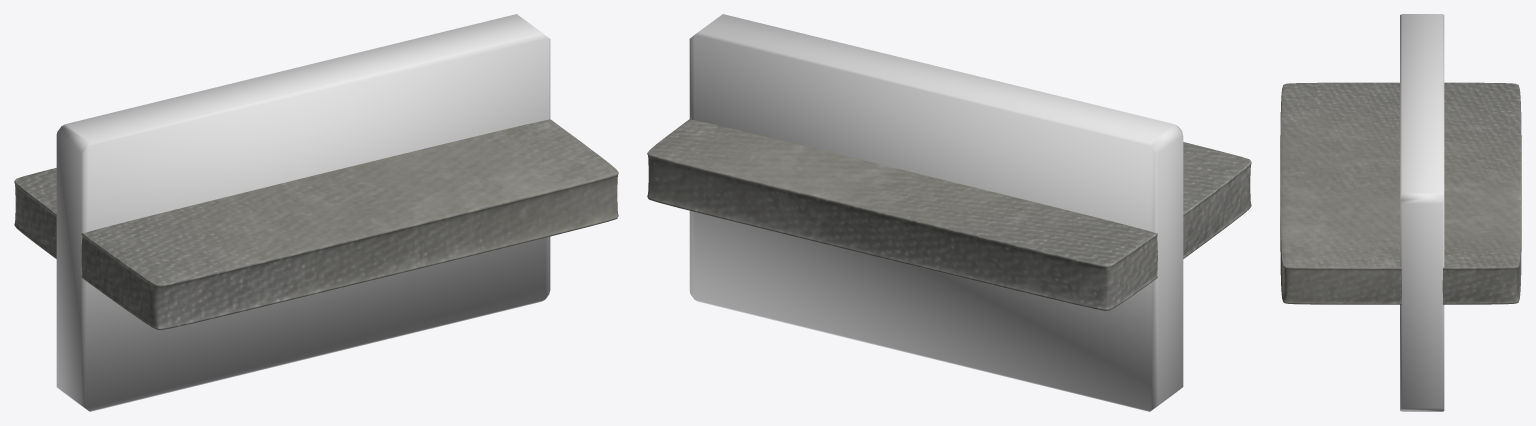
Rendered from SM_Mattress.fbx.
The picture shows the model from 3 angles, left to right: view 1: azimuth 30°, elevation 25°; view 2: azimuth 150°, elevation 25°; view 3: azimuth 270°, elevation 25°; orthographic projection. The views are drawn at different scales.
Visible parts, largest first — view 1: SM_Mattress_ConvexHulls, SM_Mattress; view 2: SM_Mattress_ConvexHulls, SM_Mattress; view 3: SM_Mattress, SM_Mattress_ConvexHulls.
Part boxes in pixels (bbox=[...]): SM_Mattress_ConvexHulls: bbox=[56, 14, 550, 411]; SM_Mattress: bbox=[14, 119, 618, 330]; SM_Mattress_ConvexHulls: bbox=[689, 14, 1183, 411]; SM_Mattress: bbox=[647, 119, 1251, 310]; SM_Mattress: bbox=[1280, 82, 1521, 304]; SM_Mattress_ConvexHulls: bbox=[1400, 14, 1444, 411].
Size of the model in its own units: 2 by 1.1 by 1.1.
